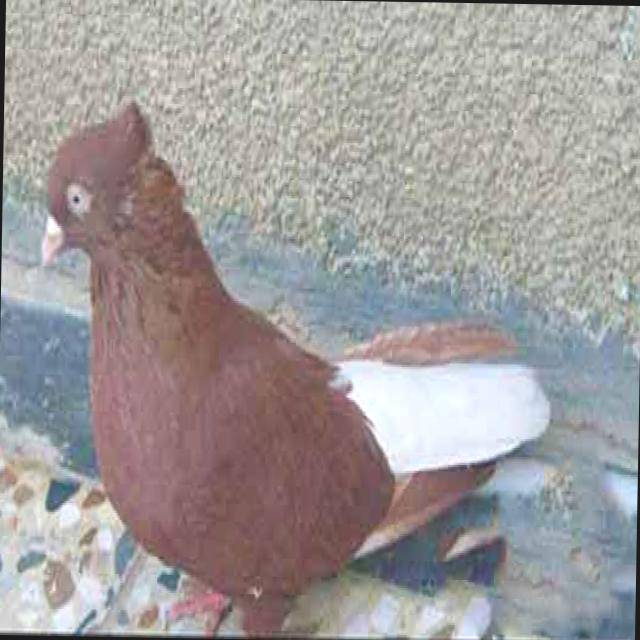bird: (29, 92, 570, 640)
